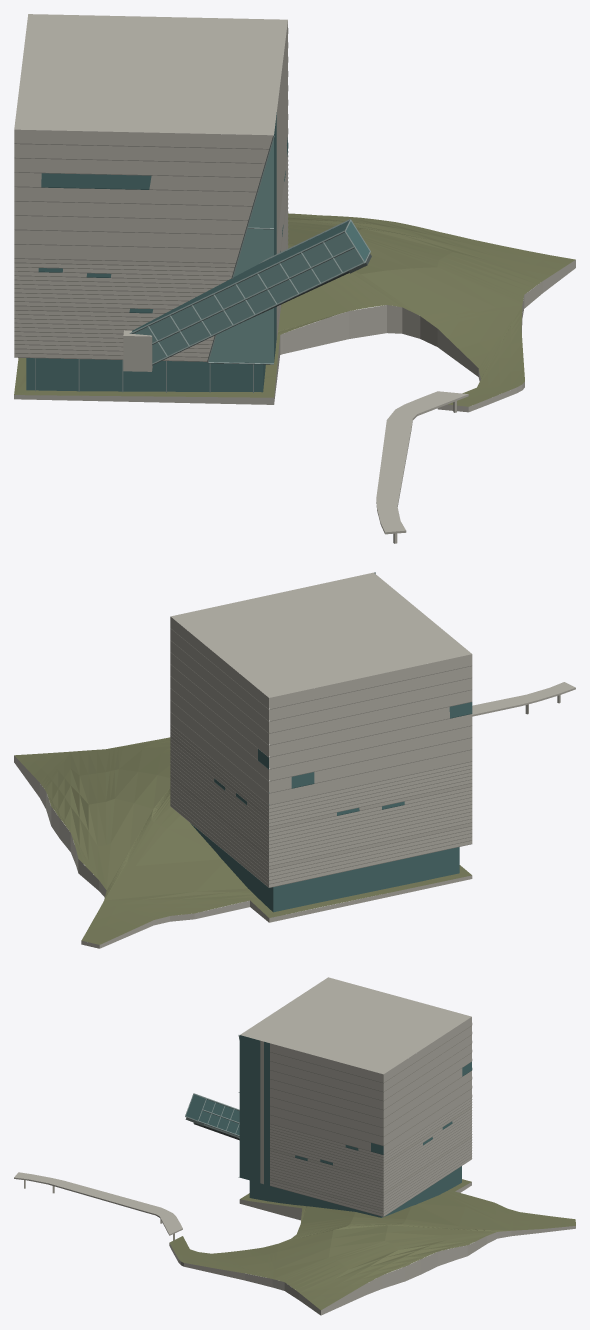
The model's file is perot-museum-far.glb.
3 renders of one model, top to bottom at view 1: azimuth 30°, elevation 25°; view 2: azimuth 150°, elevation 25°; view 3: azimuth 270°, elevation 25°, orthographic. The views are drawn at different scales.
Parts seen in each view (by area): view 1: perot-museum-0-stone, perot-museum-0-landscape, perot-museum-0-glow, perot-museum-0-glass, perot-museum-0-frame, perot-museum-0-relief; view 2: perot-museum-0-stone, perot-museum-0-landscape, perot-museum-0-glass, perot-museum-0-relief; view 3: perot-museum-0-stone, perot-museum-0-landscape, perot-museum-0-glass, perot-museum-0-relief, perot-museum-0-frame.
Boxes of the visible parts, left/top/right/bottom form: perot-museum-0-stone: left=14, top=14, right=575, bottom=543; perot-museum-0-landscape: left=14, top=213, right=575, bottom=406; perot-museum-0-glow: left=133, top=139, right=362, bottom=363; perot-museum-0-glass: left=26, top=112, right=369, bottom=392; perot-museum-0-frame: left=35, top=135, right=370, bottom=392; perot-museum-0-relief: left=14, top=190, right=288, bottom=361; perot-museum-0-stone: left=14, top=572, right=575, bottom=948; perot-museum-0-landscape: left=14, top=732, right=471, bottom=944; perot-museum-0-glass: left=190, top=702, right=472, bottom=912; perot-museum-0-relief: left=170, top=735, right=472, bottom=869; perot-museum-0-stone: left=14, top=977, right=575, bottom=1315; perot-museum-0-landscape: left=169, top=1179, right=575, bottom=1309; perot-museum-0-glass: left=186, top=1035, right=472, bottom=1217; perot-museum-0-relief: left=270, top=1106, right=472, bottom=1211; perot-museum-0-frame: left=185, top=1035, right=239, bottom=1177.
Size of the model in its own units: 112 by 51.85 by 156.
